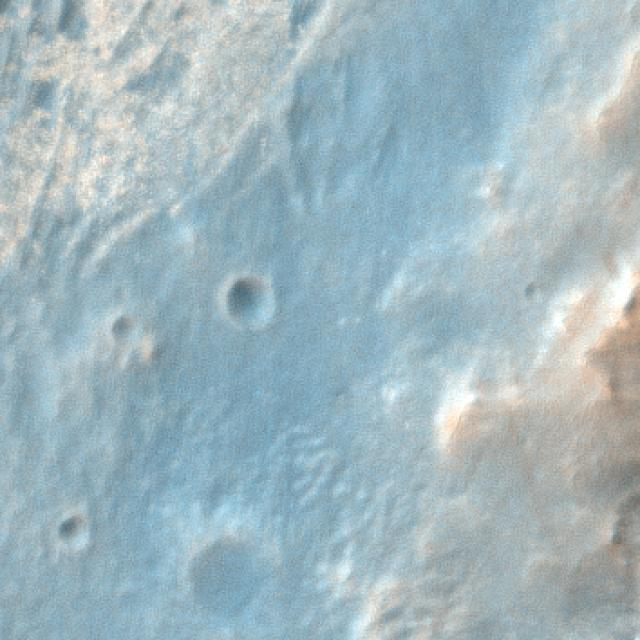Crater: (212, 254, 288, 343), (44, 498, 102, 556)
